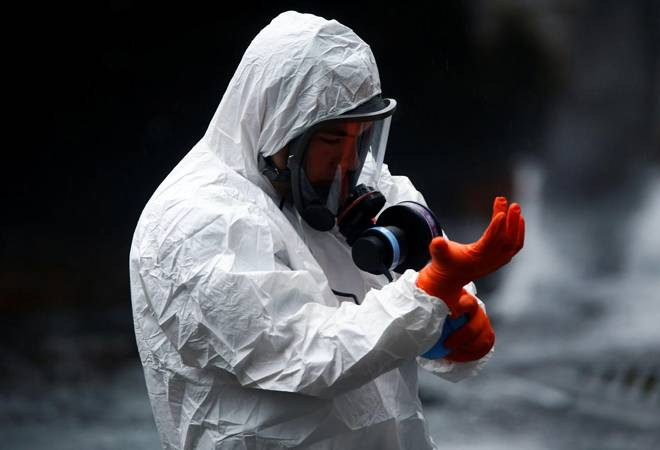Coverall: (130, 12, 426, 450)
Gloves: (423, 192, 540, 298), (440, 292, 510, 367)
with_mask: (283, 98, 430, 270)
